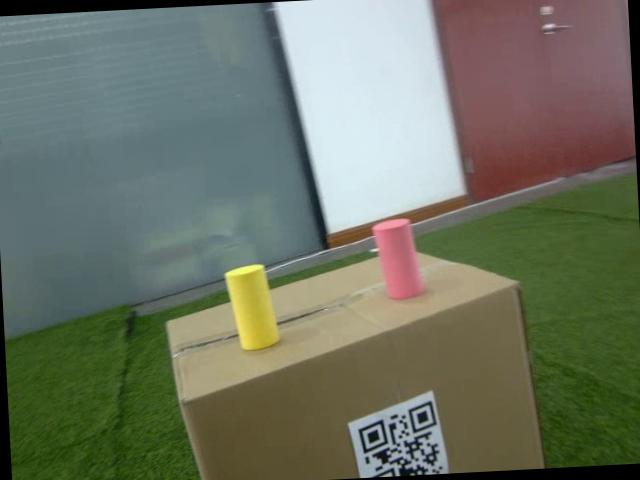red_cylinder: (371, 218, 425, 301)
yellow_cylinder: (223, 262, 279, 350)
